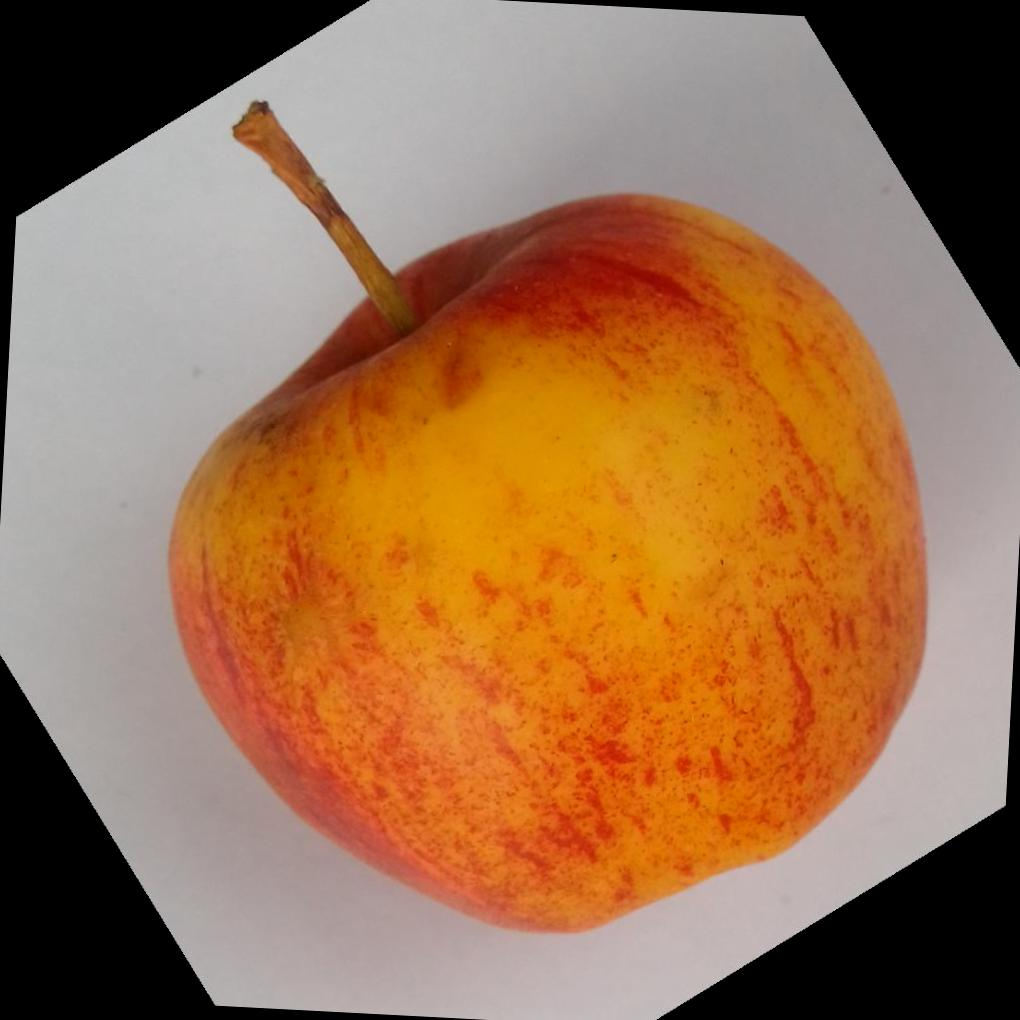FreshGuava: (166, 157, 931, 932)
